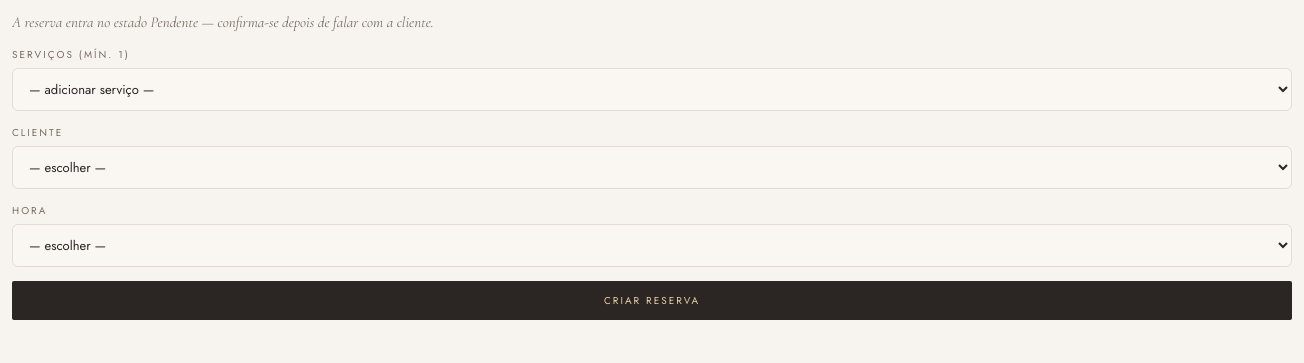
Test: BookingForm — submitting › requires at least one service
Select "10:00" in the dropdown labelled "Hora" at coordinates (652, 246), box [12, 224, 1292, 267]
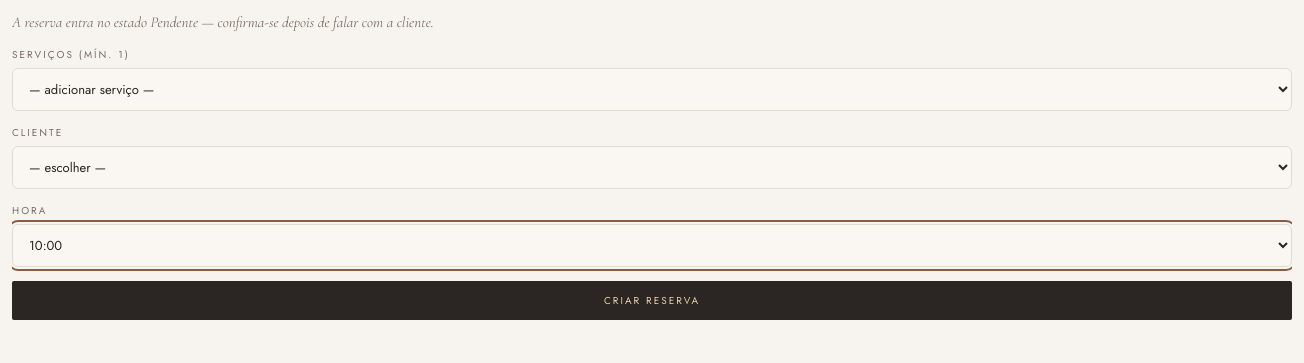
Select "Beatriz Sousa" in the dropdown labelled "Cliente" at coordinates (652, 168), box [12, 146, 1292, 189]
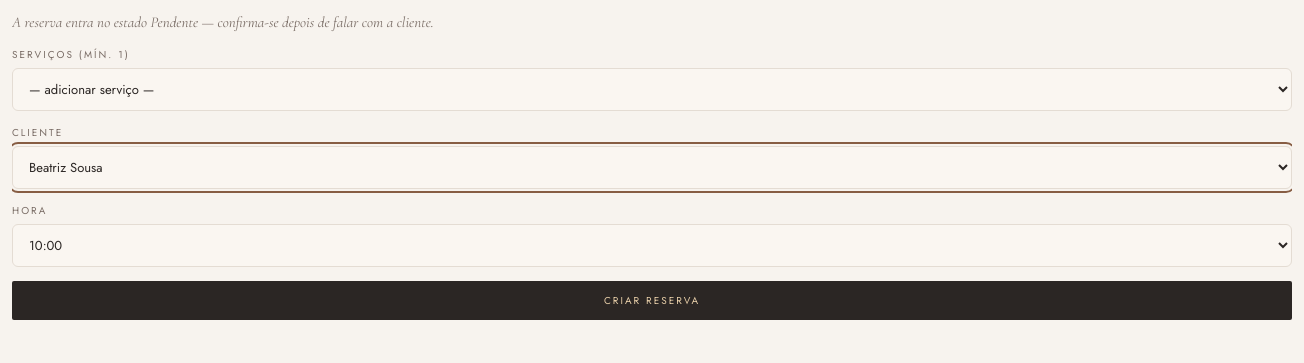
Click the button "CRIAR RESERVA" at coordinates (652, 300), box [12, 281, 1292, 320]
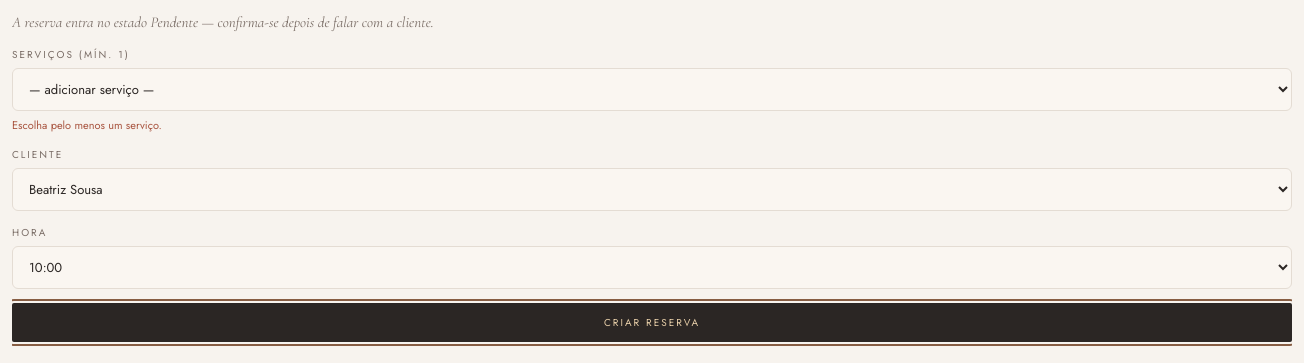
Check: the text "Escolha pelo menos um serviço." is shown, box [12, 117, 162, 133]
